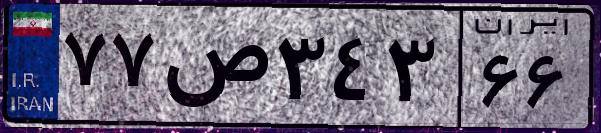3: (270, 28, 330, 110), (385, 28, 445, 110)
4: (330, 28, 385, 110)
6: (475, 38, 525, 113), (525, 38, 570, 115)
7: (57, 26, 110, 100), (110, 28, 158, 98)
ص: (158, 20, 270, 120)
